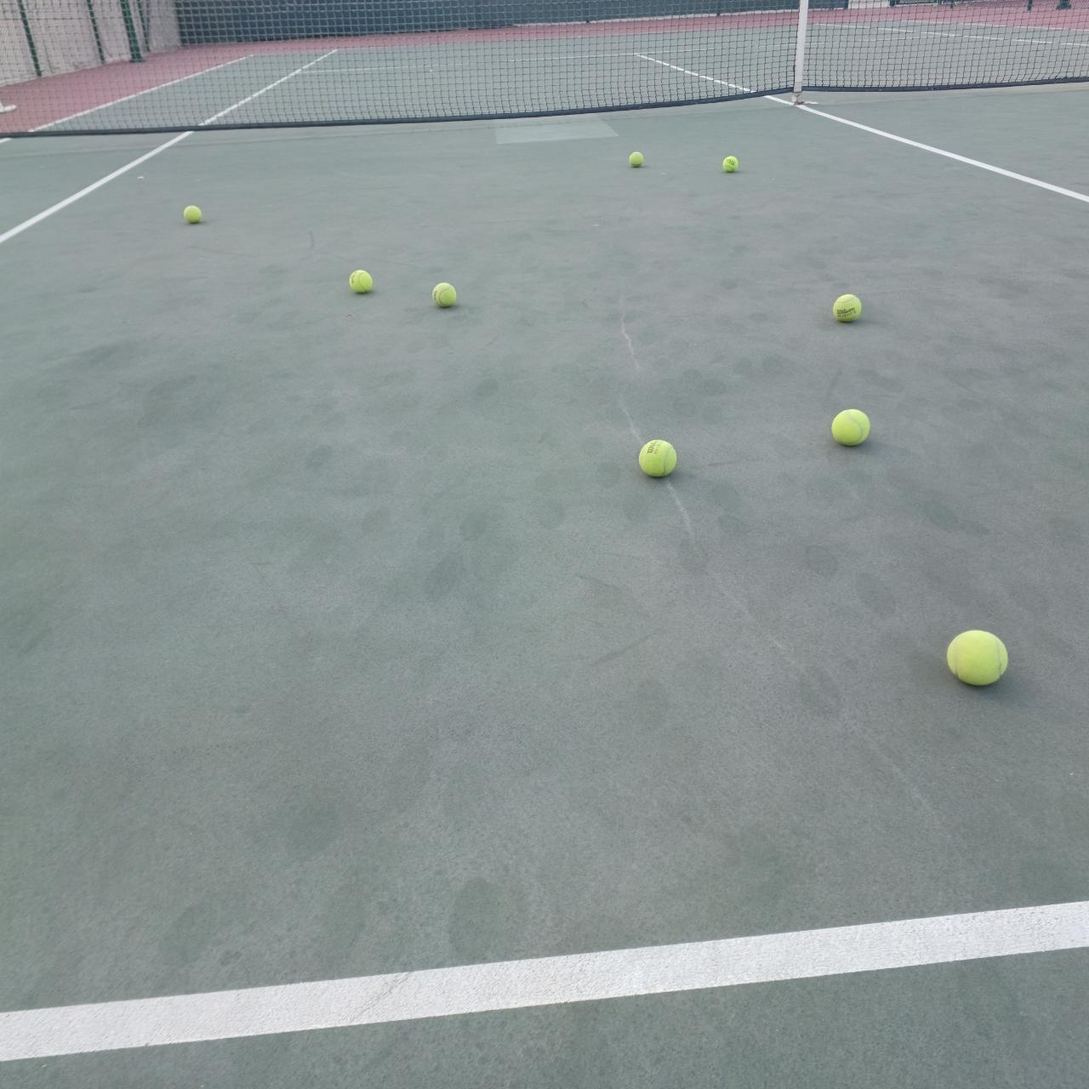tennis-ball: (944, 627, 1009, 687), (636, 436, 677, 477), (830, 406, 870, 447), (831, 291, 862, 322), (430, 280, 456, 307), (347, 267, 373, 294), (182, 202, 202, 224), (720, 154, 738, 173), (627, 149, 643, 167)
